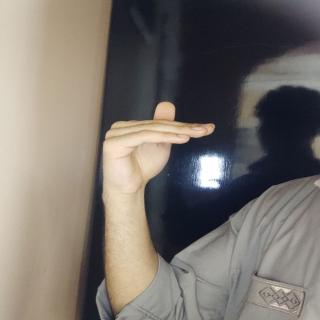KHAA: (93, 96, 217, 203)
